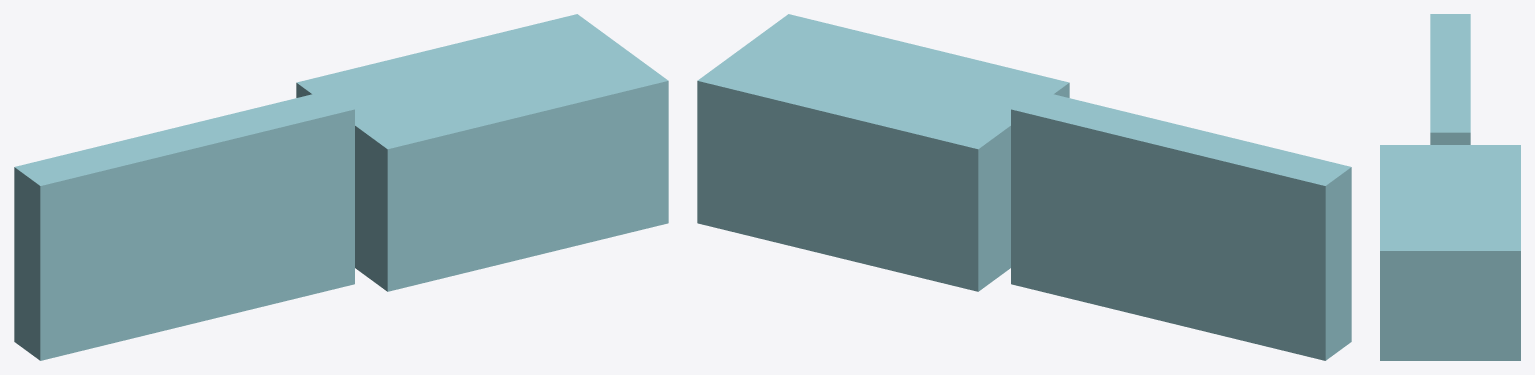
The model's file is cuboid_brush_v8011.obj.
3 renders of one model, left to right at view 1: azimuth 30°, elevation 25°; view 2: azimuth 150°, elevation 25°; view 3: azimuth 270°, elevation 25°, orthographic. The views are drawn at different scales.
Bounding box in the file's own units: 0.1339 × 0.0376 × 0.0355.
Materials: 1 (1 with a texture image).
